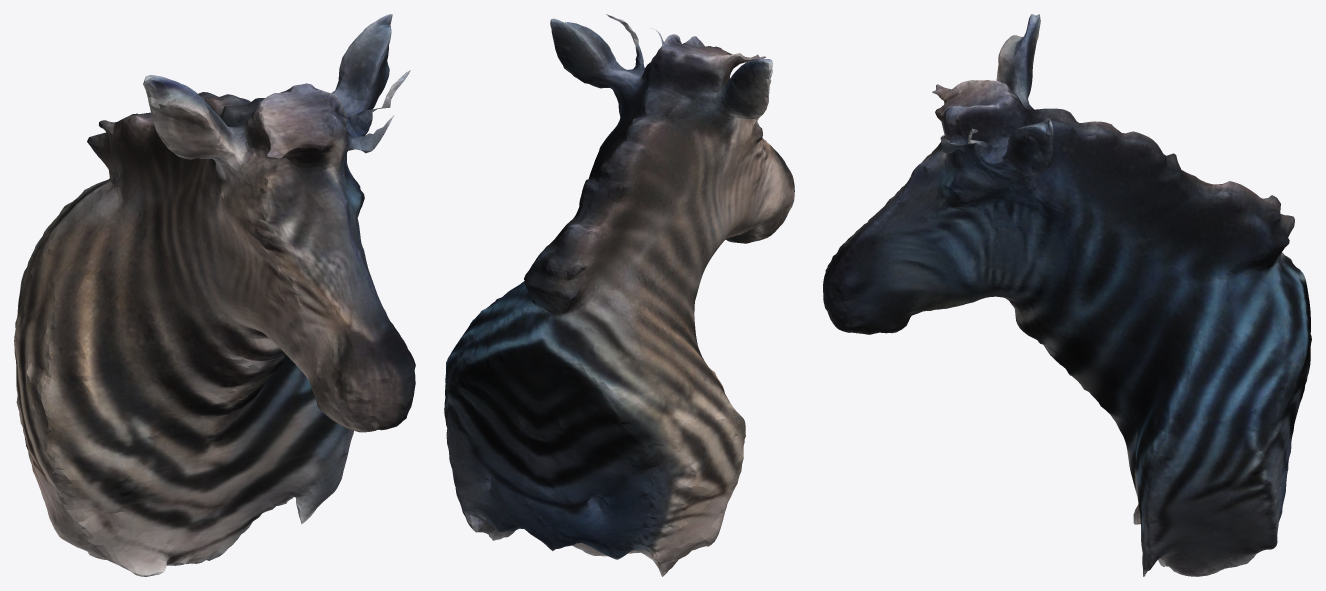
The picture shows the model from 3 angles, left to right: view 1: azimuth 30°, elevation 25°; view 2: azimuth 150°, elevation 25°; view 3: azimuth 270°, elevation 25°; orthographic projection. The views are drawn at different scales.
Parts seen in each view (by area): view 1: Mesh_0.104; view 2: Mesh_0.104; view 3: Mesh_0.104.
Boxes of the visible parts, bbox=[...] form: Mesh_0.104: bbox=[14, 14, 415, 576]; Mesh_0.104: bbox=[444, 14, 794, 576]; Mesh_0.104: bbox=[823, 14, 1311, 576].
Bounding box in the file's own units: 0.6201 × 1.03 × 0.9274.
1 material, 1 textured.
